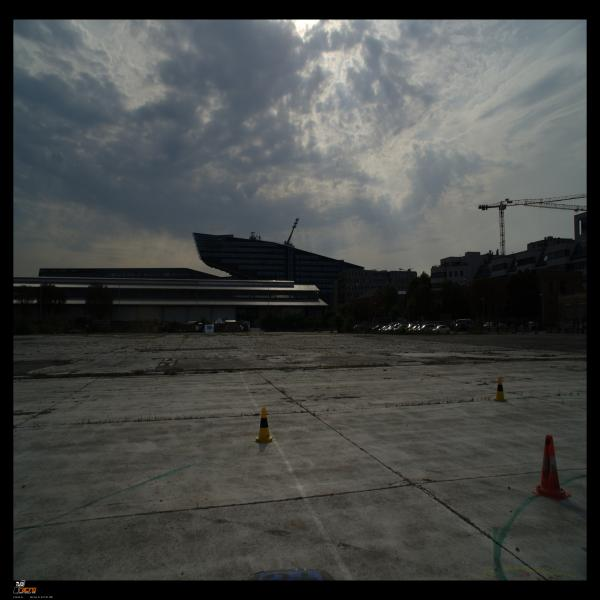orange_cone: (532, 435, 570, 501)
yellow_cone: (253, 407, 275, 444), (492, 377, 508, 403)
